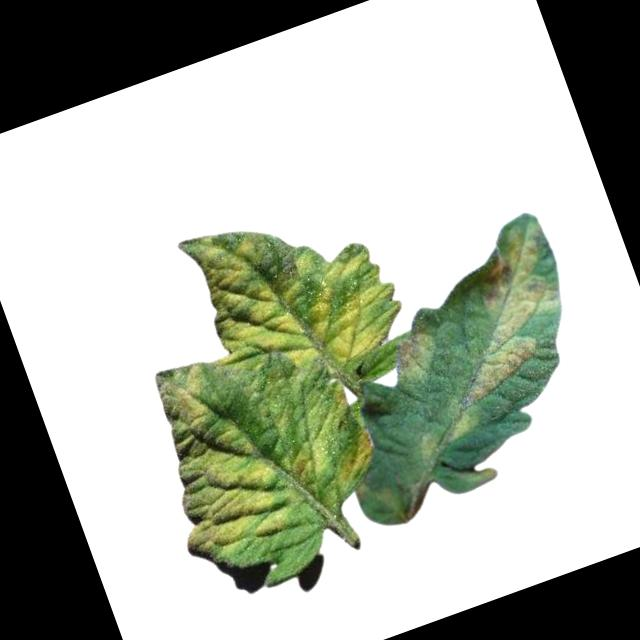Leaf_Mold: (181, 180, 417, 404), (128, 349, 299, 566), (412, 218, 590, 409), (267, 376, 386, 509), (410, 406, 487, 469), (381, 326, 443, 393)
